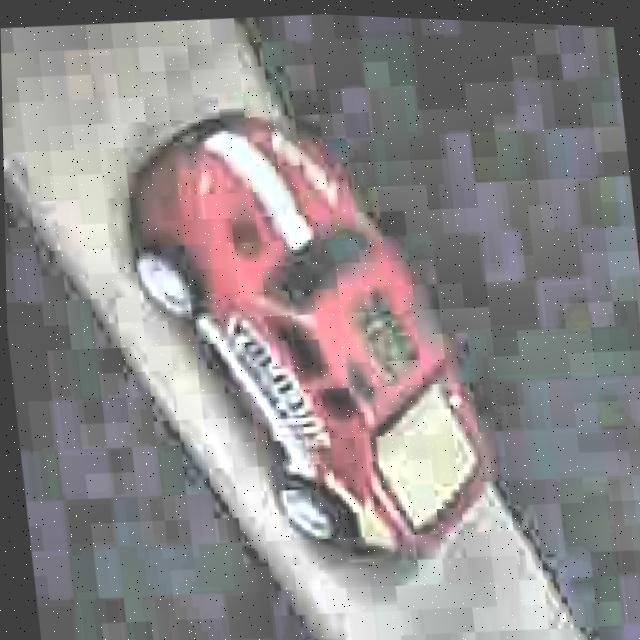car: (106, 81, 511, 584)
